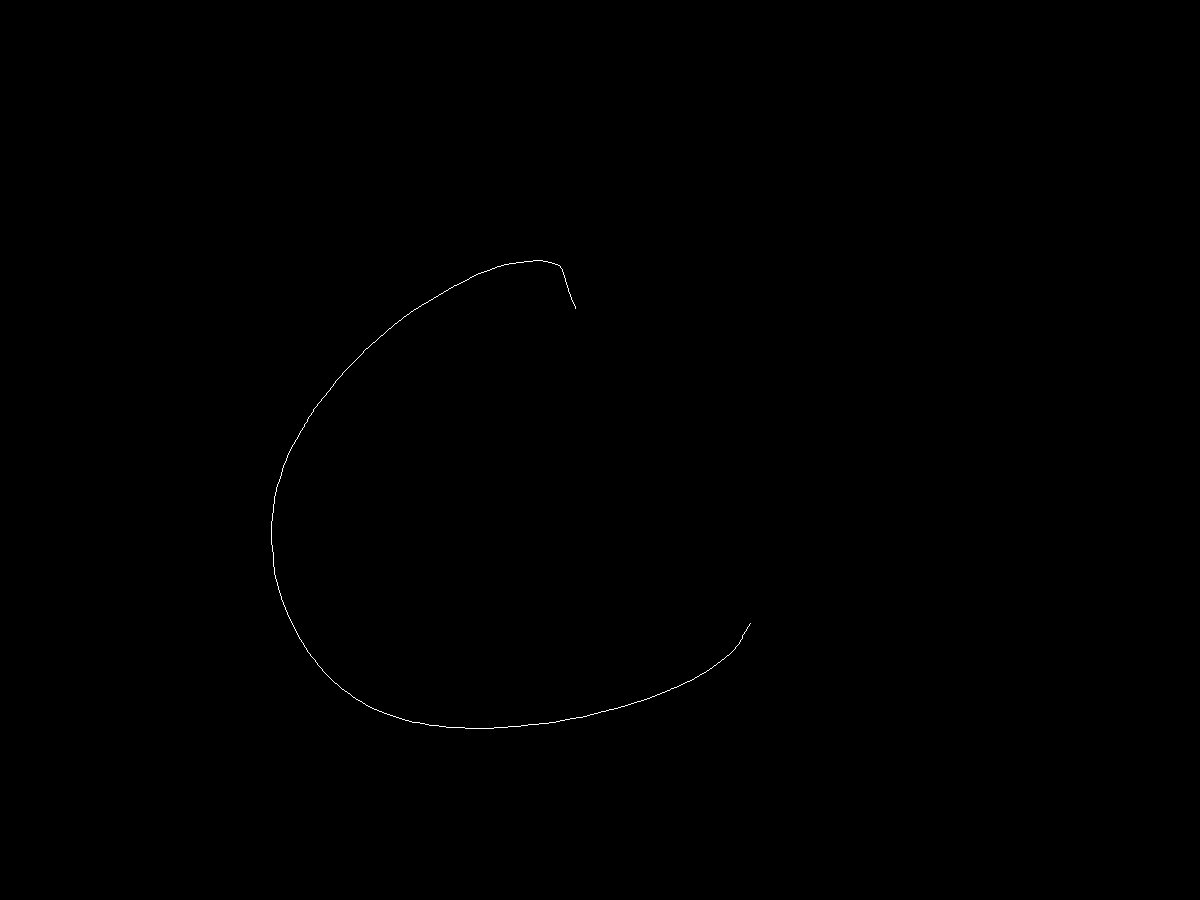dian1: (569, 302, 589, 324)
dian2: (731, 616, 756, 639)
